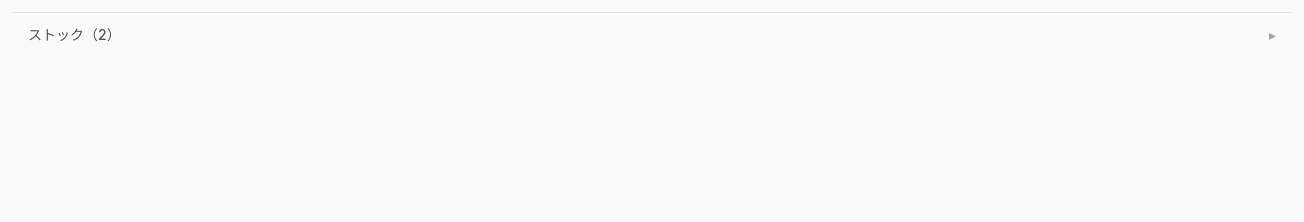
Scenario: StockList › 開閉トグル（起動時は閉） › ヘッダーのインジケータが ▸（閉）/ ▾（開）で切り替わる
This screenshot has width=1304, height=222.
Click the button "ストック（2） ▸": (63, 34) [12,13,1292,57]
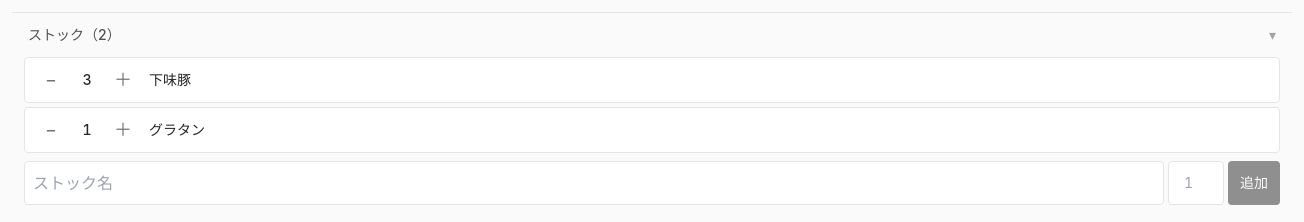
Result: the button "ストック（2） ▾" is shown at [12,13,1292,57]
